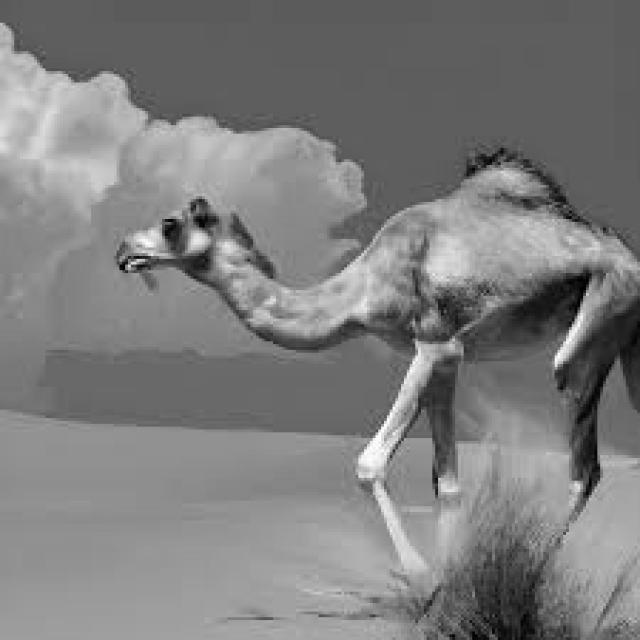Camel: (111, 145, 637, 580)
